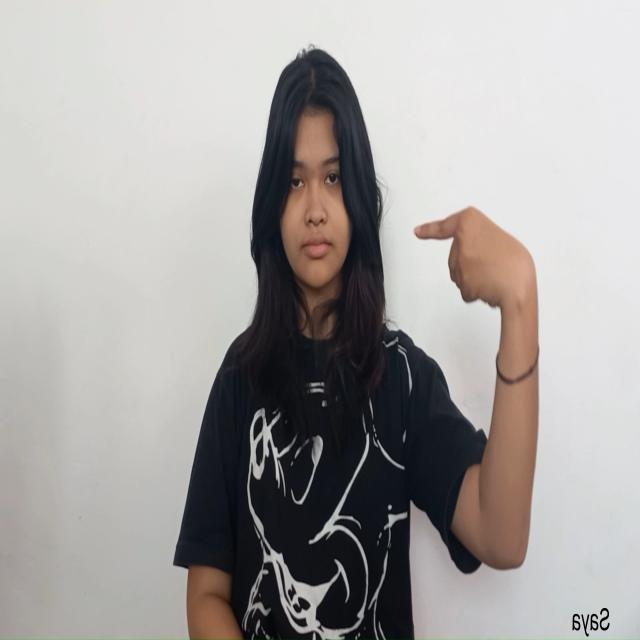Saya -BISINDO-: (412, 202, 542, 357)
